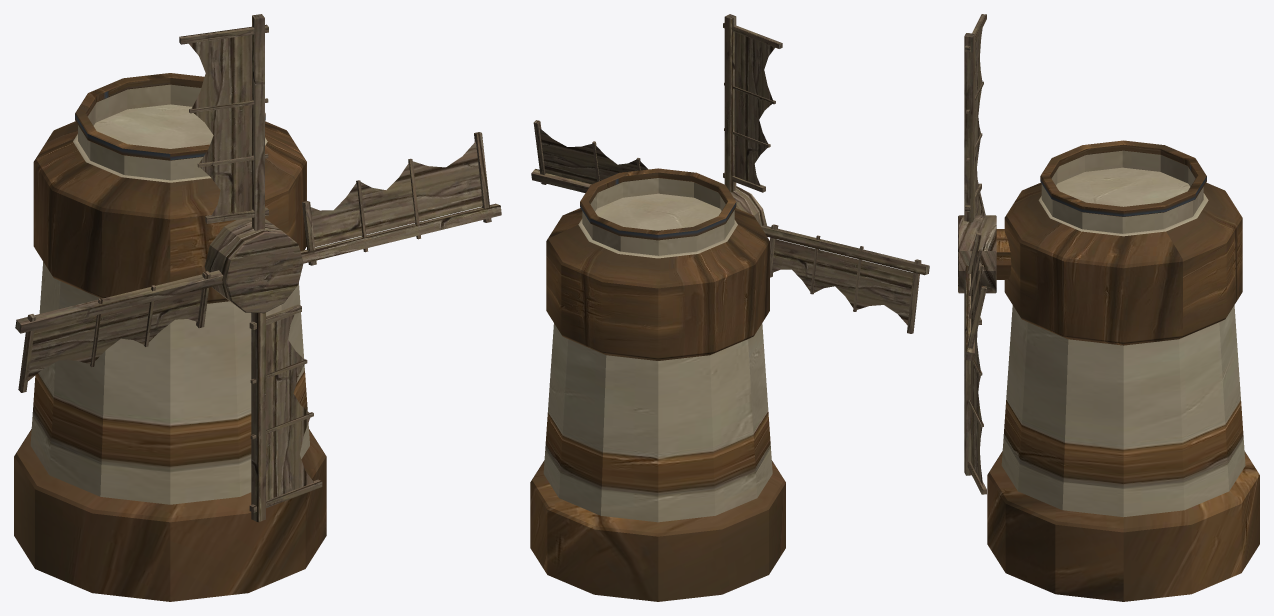
Rendered from windmill_tex.fbx.
The picture shows the model from 3 angles, left to right: view 1: azimuth 30°, elevation 25°; view 2: azimuth 150°, elevation 25°; view 3: azimuth 270°, elevation 25°; orthographic projection. The views are drawn at different scales.
Visible parts, largest first — view 1: house1, wheel_wind; view 2: house1, wheel_wind; view 3: house1, wheel_wind.
Part boxes in pixels (box(x1,y1,x2,y2)): house1: box(14, 73, 326, 601); wheel_wind: box(15, 14, 501, 522); house1: box(530, 168, 785, 601); wheel_wind: box(531, 14, 929, 333); house1: box(987, 140, 1259, 601); wheel_wind: box(958, 14, 996, 494).
Size of the model in its own units: 53.71 by 62.38 by 33.49.
Materials: 2 (2 with a texture image).
